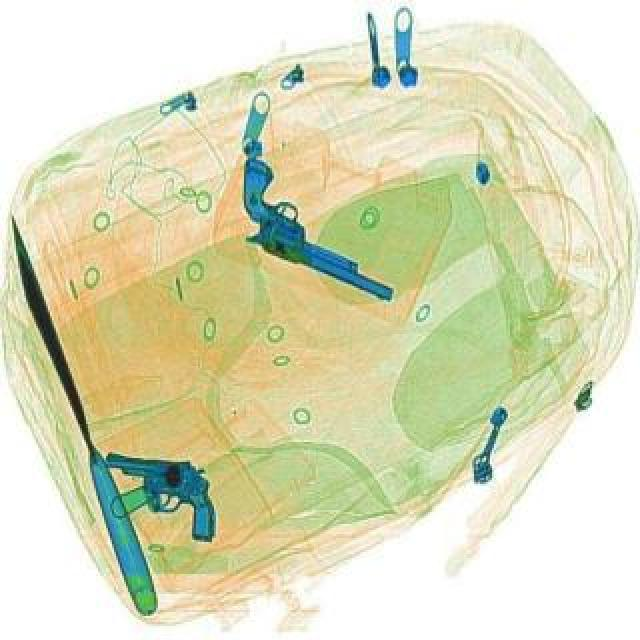gun: (208, 152, 424, 304), (100, 452, 220, 542)
knife: (0, 224, 164, 616)
